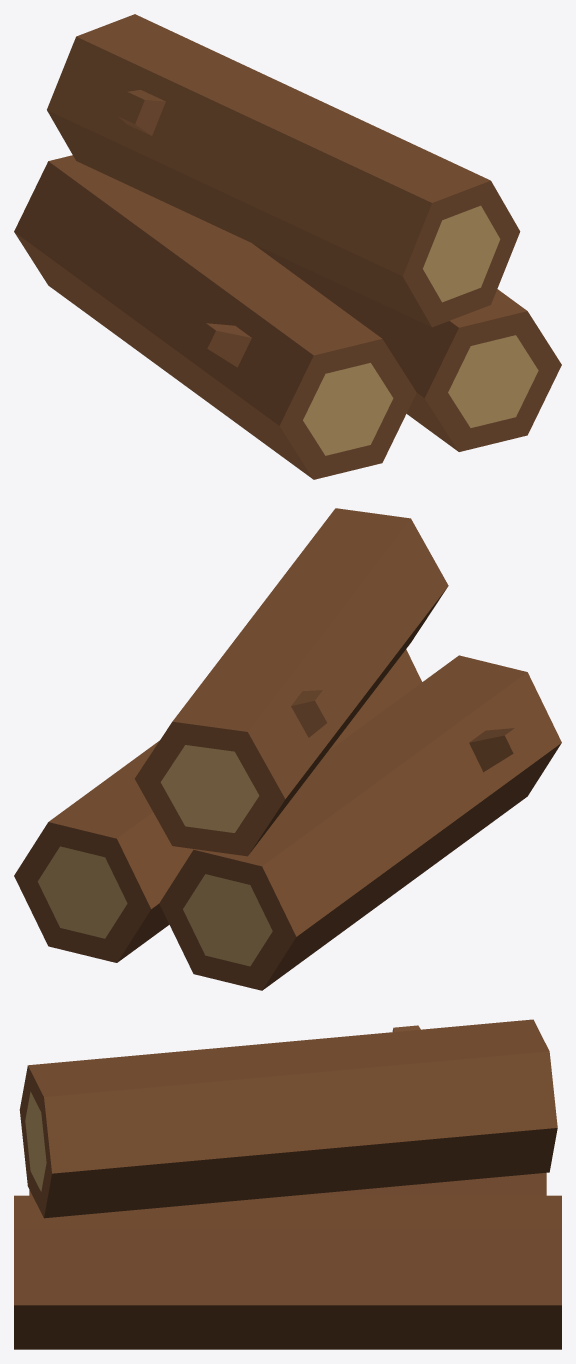
The model's file is sn_logs.glb.
3 views of the same model, one above another, from view 1: azimuth 30°, elevation 25°; view 2: azimuth 150°, elevation 25°; view 3: azimuth 270°, elevation 25° (orthographic). The views are drawn at different scales.
Parts seen in each view (by area): view 1: sn_logs; view 2: sn_logs; view 3: sn_logs.
Part boxes in pixels (x1=…): sn_logs: x1=14, y1=14, x2=561, y2=479; sn_logs: x1=14, y1=508, x2=561, y2=990; sn_logs: x1=14, y1=1019, x2=561, y2=1349.
Size of the model in its own units: 1.19 by 0.9698 by 1.99.
